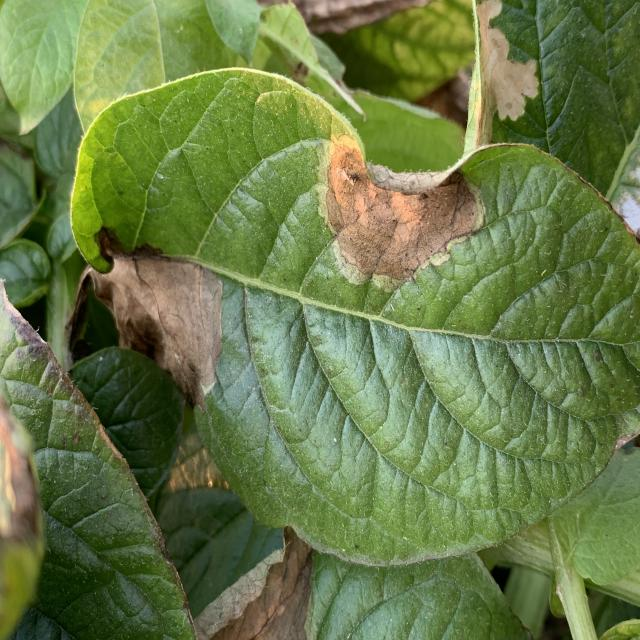lateblight: (69, 232, 222, 410), (326, 135, 481, 282), (194, 527, 312, 640)
